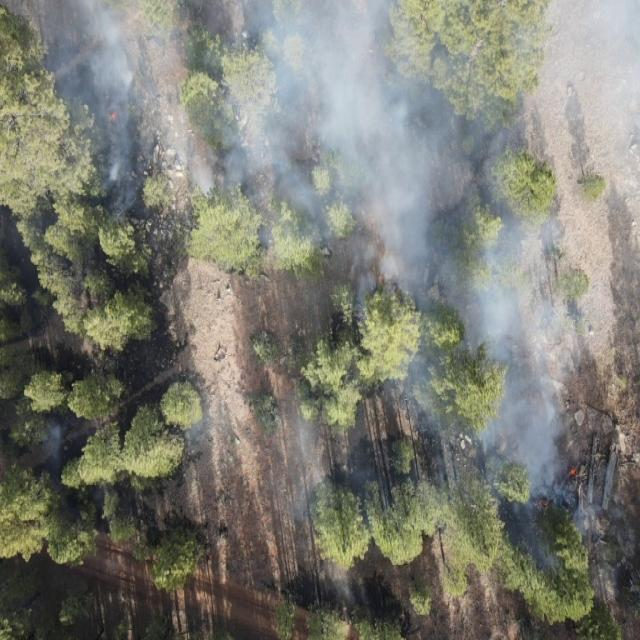fire: (532, 493, 552, 512), (106, 109, 122, 125), (566, 464, 580, 478)
smoke: (0, 0, 640, 271), (289, 272, 640, 637), (178, 378, 250, 458), (32, 416, 66, 466)
